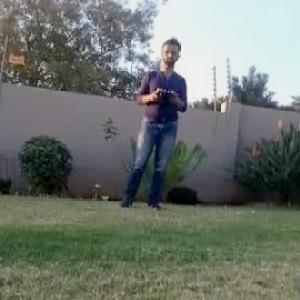follow: (113, 29, 191, 212)
